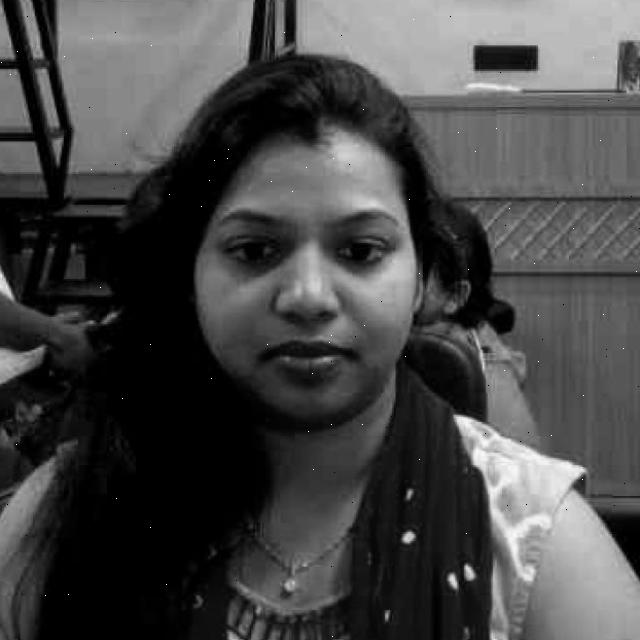puffy_eyes: (222, 251, 287, 280)
